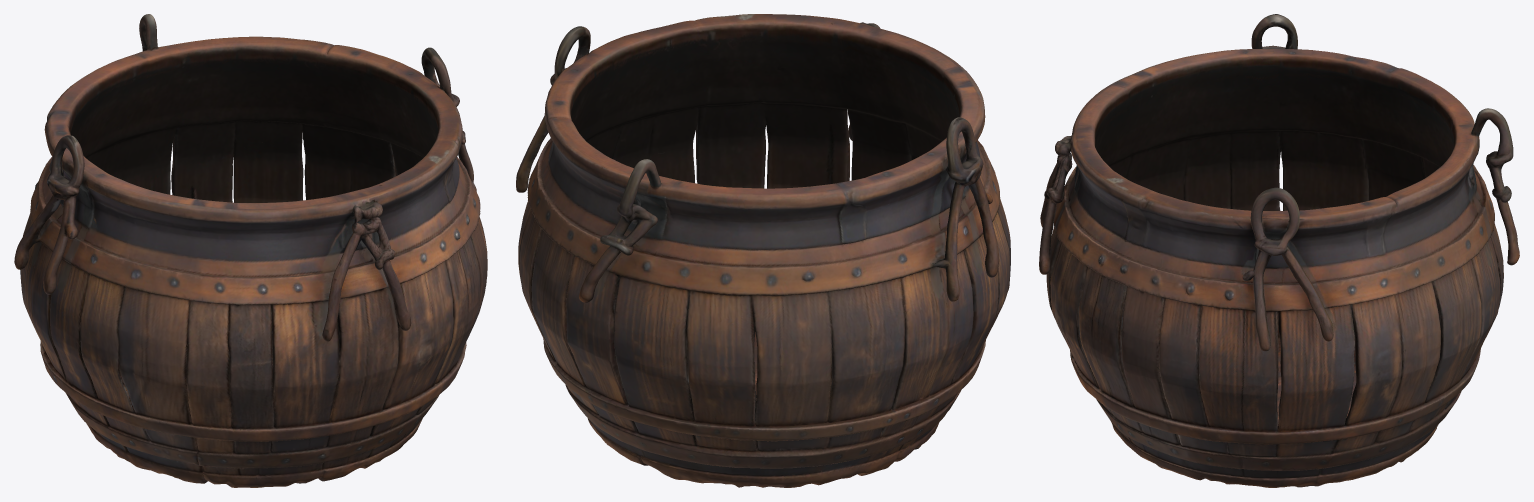
The model's file is MedievalCauldron.glb.
3 renders of one model, left to right at view 1: azimuth 30°, elevation 25°; view 2: azimuth 150°, elevation 25°; view 3: azimuth 270°, elevation 25°, orthographic. The views are drawn at different scales.
Size of the model in its own units: 1.99 by 1.46 by 1.98.
Materials: 1 (1 with a texture image).
